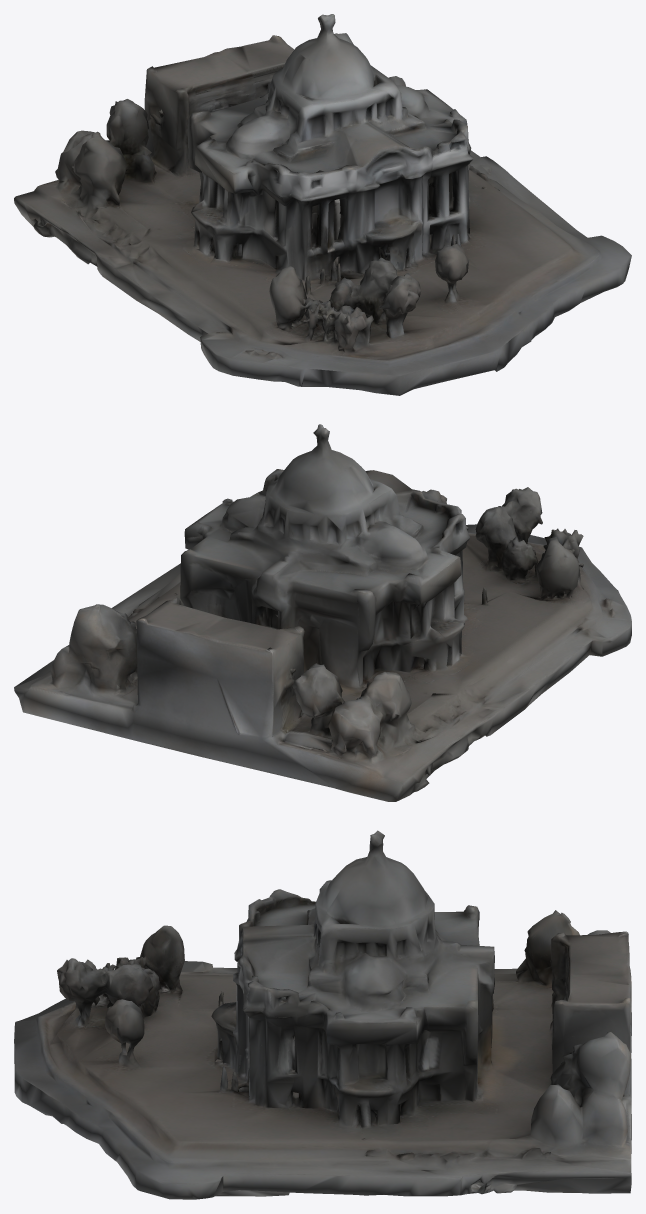
Rendered from landmark-bellasartes.glb.
The picture shows the model from 3 angles, top to bottom: view 1: azimuth 30°, elevation 25°; view 2: azimuth 150°, elevation 25°; view 3: azimuth 270°, elevation 25°; orthographic projection. The views are drawn at different scales.
Bounding box in the file's own units: 1.7 × 0.9517 × 2.
1 material, 1 textured.
